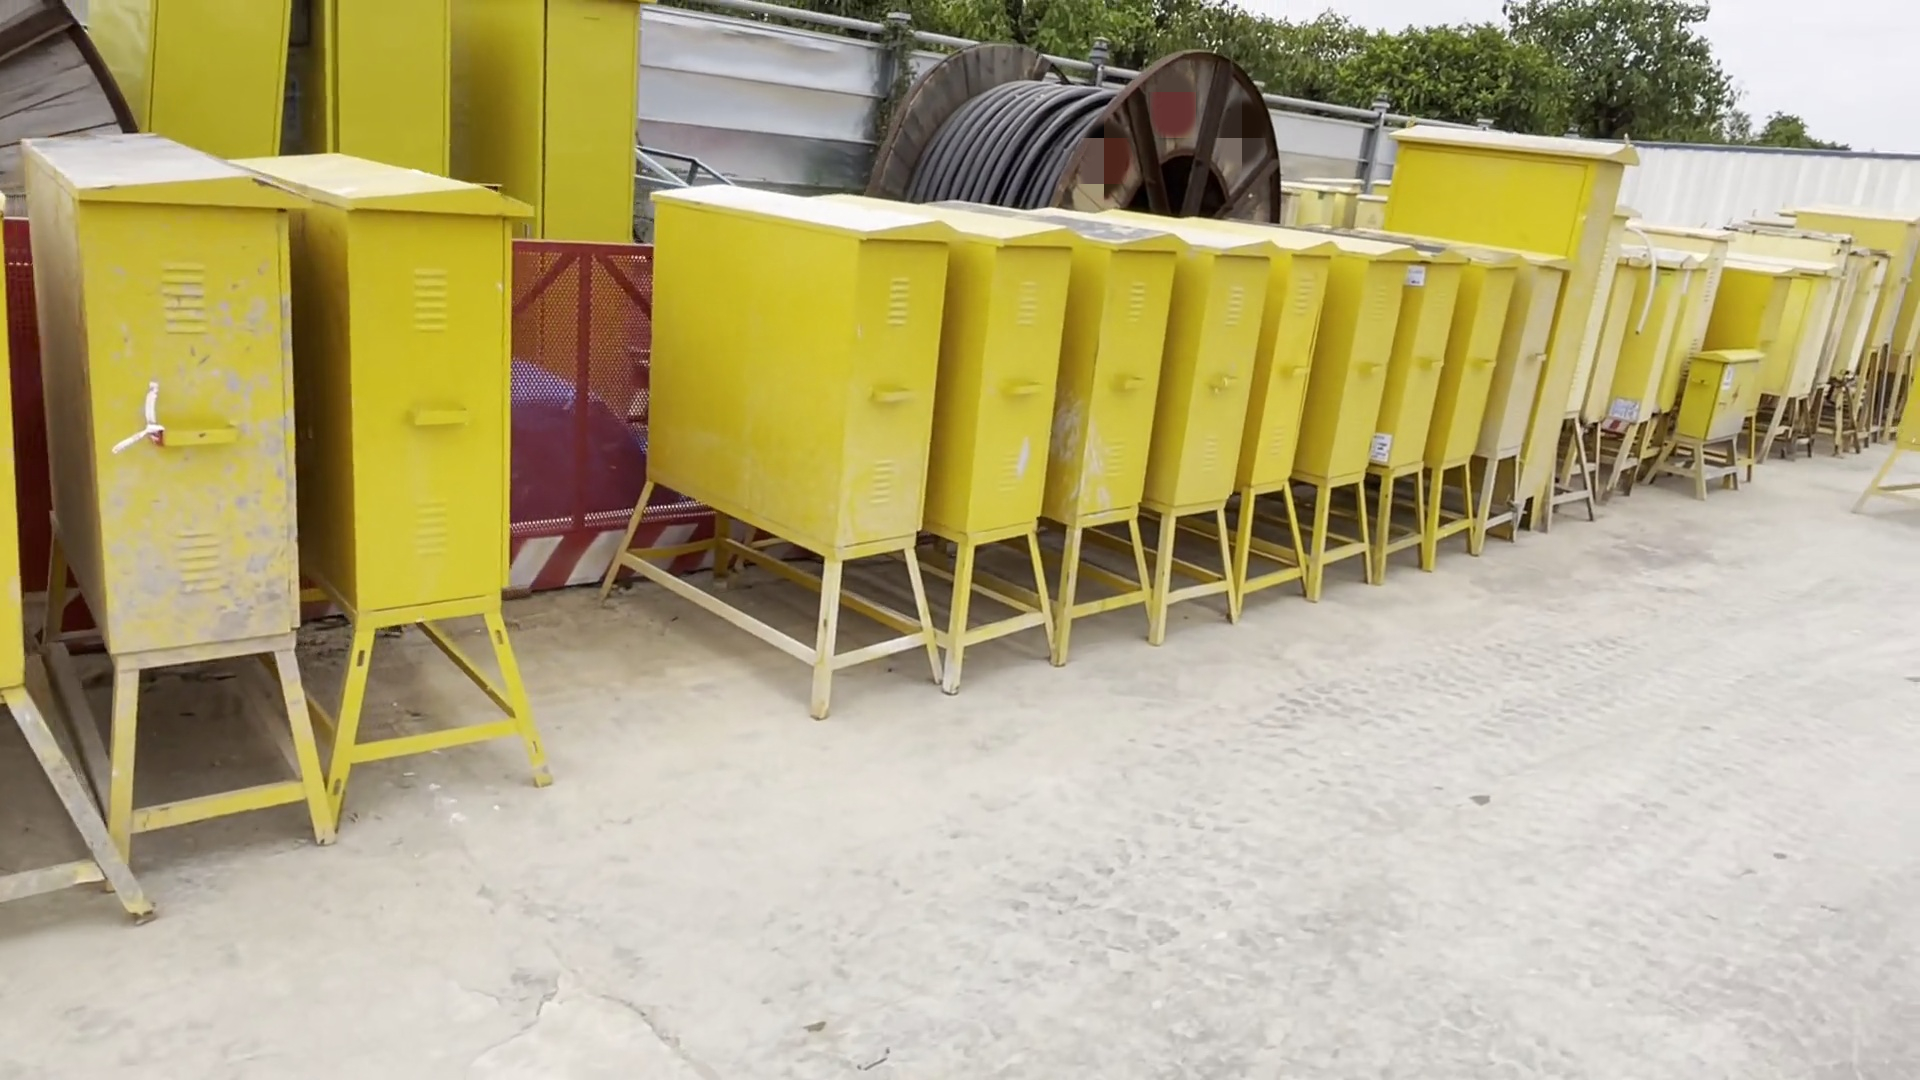ebox: (256, 131, 568, 808), (67, 117, 338, 890), (638, 178, 945, 694), (1386, 131, 1631, 527), (938, 200, 1075, 698), (1150, 208, 1275, 651), (1048, 200, 1164, 657), (459, 3, 636, 243), (1296, 235, 1407, 601), (1233, 227, 1323, 618), (74, 1, 305, 150), (1367, 239, 1457, 592), (1427, 245, 1513, 567), (309, 8, 462, 186), (1474, 256, 1563, 555), (1604, 255, 1684, 502), (1753, 262, 1829, 460), (1668, 353, 1756, 502), (1702, 262, 1788, 352)
